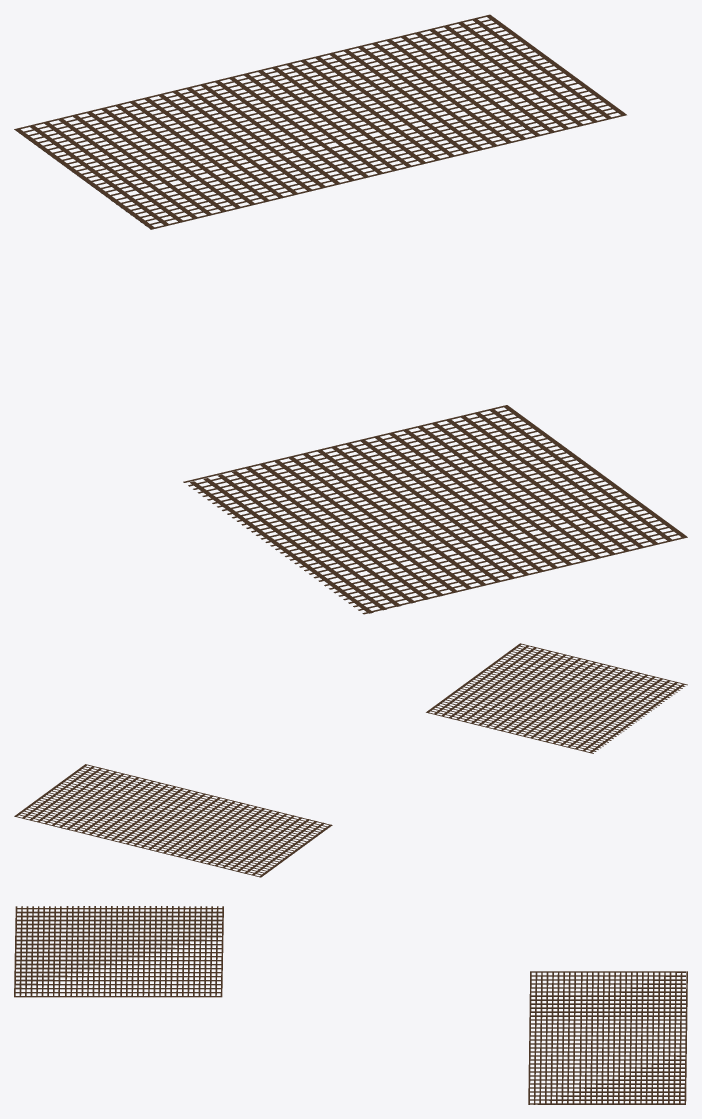
The model's file is METEAL GRIDS TERACE .fbx.
3 views of the same model, one above another, from view 1: azimuth 30°, elevation 25°; view 2: azimuth 150°, elevation 25°; view 3: azimuth 270°, elevation 25° (orthographic). The views are drawn at different scales.
Parts seen in each view (by area): view 1: Cube.001, Cube.002; view 2: Cube.001, Cube.002; view 3: Cube.002, Cube.001.
Boxes of the visible parts, x1,y1,x2,y2 form: Cube.001: (14,14,626,229); Cube.002: (183,405,687,614); Cube.001: (14,764,332,877); Cube.002: (426,643,687,753); Cube.002: (14,906,223,997); Cube.001: (528,971,687,1104).
Size of the model in its own units: 1352 by 3.55 by 1934.
